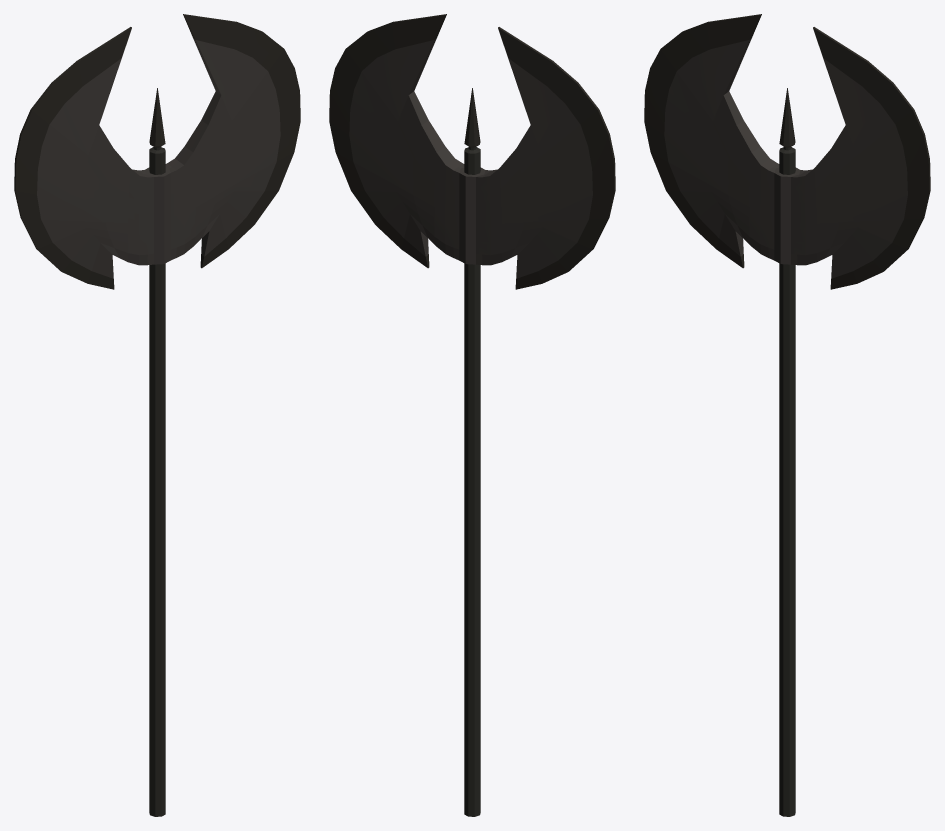
The model's file is shop-item-1015.glb.
The picture shows the model from 3 angles, left to right: view 1: azimuth 30°, elevation 25°; view 2: azimuth 150°, elevation 25°; view 3: azimuth 330°, elevation 25°; orthographic projection.
Visible parts, largest first — view 1: two_handed_axe_5; view 2: two_handed_axe_5; view 3: two_handed_axe_5.
Part boxes in pixels (x1,y1,x2,y2): two_handed_axe_5: (14,14,300,816); two_handed_axe_5: (329,14,615,816); two_handed_axe_5: (644,14,930,816).
Bounding box in the file's own units: 0.7371 × 1.96 × 0.0607.
Materials: 1 (1 with a texture image).
